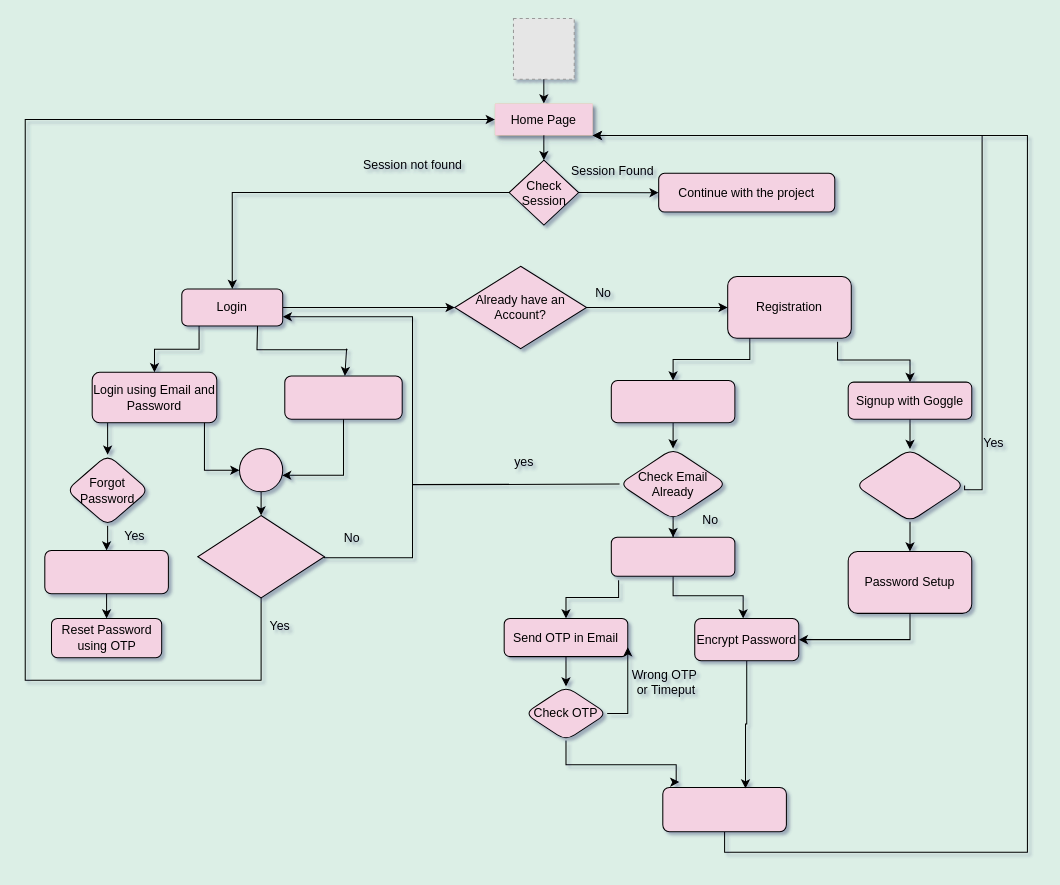
This 1060x885 diagram has some shape labels left out. Grey dashed boxes stand in for pictures. The centre of each missing label's shape, as x and y in pixels:
"Check Email Already Exist" belongs at point 909,485.
"Email Exist and Password Match" belongs at point 260,556.
"Enter Email for Password Recovery" belongs at point 106,572.
"Form Validation" belongs at point 672,556.
"Login with Goggle" belongs at point 343,397.
"Signup with Email" belongs at point 672,401.
"Store User in Database" belongs at point 724,809.
